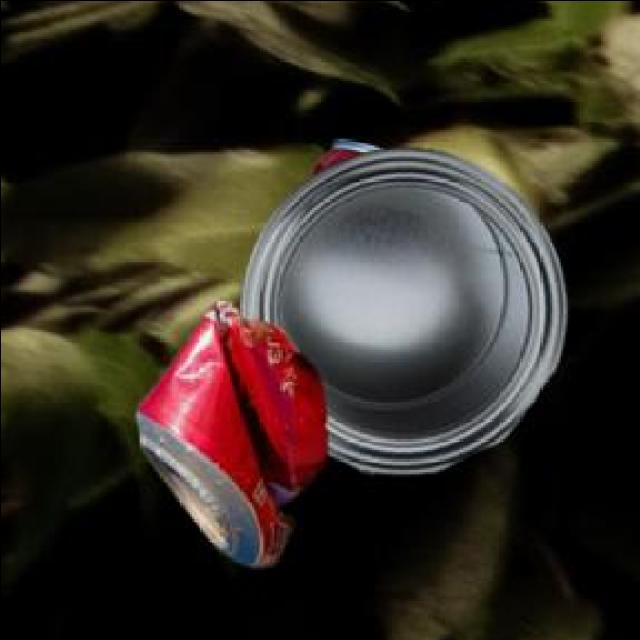logam: (243, 143, 568, 470), (139, 299, 328, 561), (316, 137, 381, 172)
